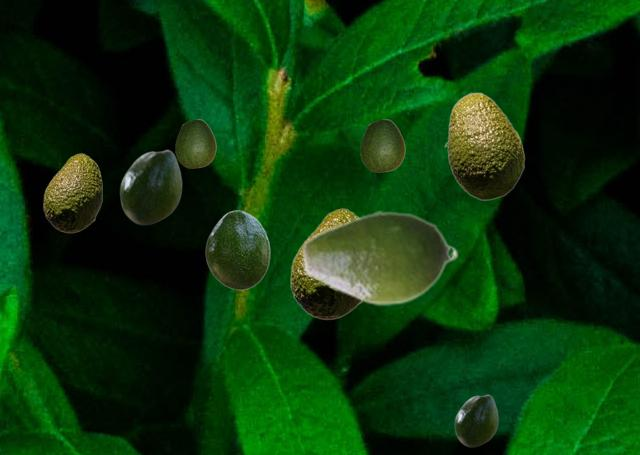avocado: (300, 209, 458, 306), (444, 92, 524, 199), (290, 208, 362, 319), (205, 210, 269, 289), (119, 149, 181, 224), (43, 153, 101, 232), (360, 119, 404, 171), (454, 394, 497, 446), (175, 119, 215, 167)
